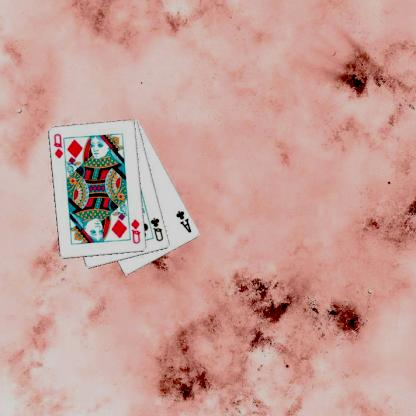AC: (173, 208, 193, 234)
QC: (148, 215, 165, 242)
QD: (128, 217, 142, 245), (52, 132, 64, 160)
